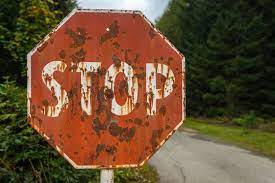Stop: (32, 10, 186, 169)
